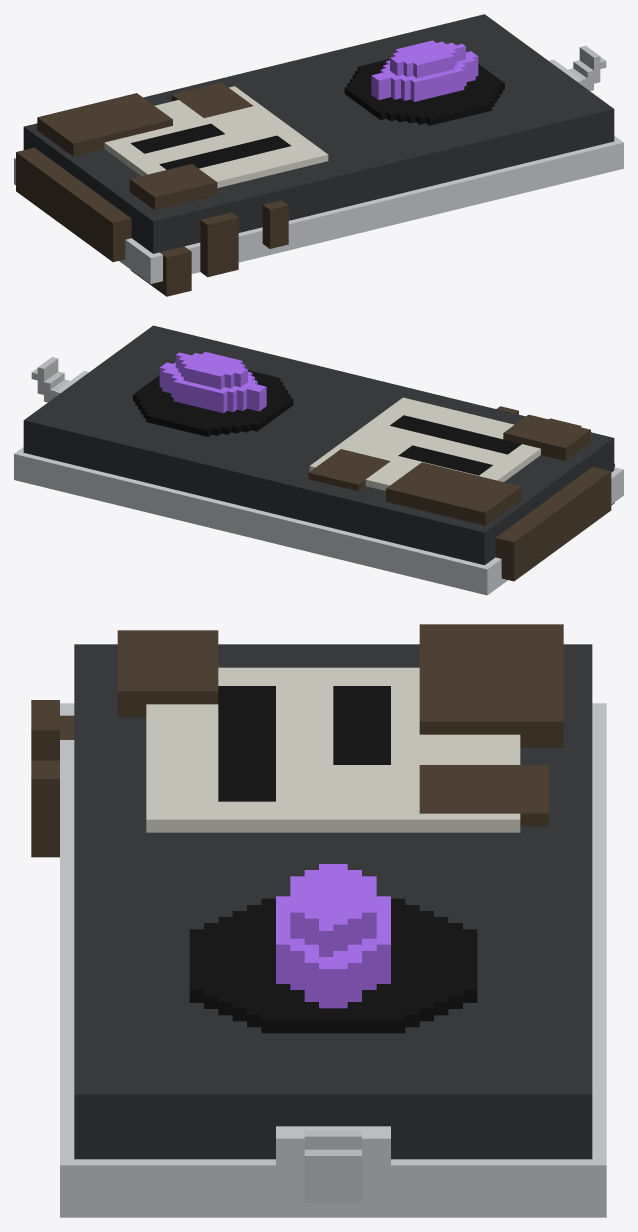
File: force_field_generator_broken.glb
3 views of the same model, one above another, from view 1: azimuth 30°, elevation 25°; view 2: azimuth 150°, elevation 25°; view 3: azimuth 270°, elevation 25° (orthographic). The views are drawn at different scales.
Parts seen in each view (by area): view 1: force_field_generator_broken:compound; view 2: force_field_generator_broken:compound; view 3: force_field_generator_broken:compound.
Boxes of the visible parts, left/top/right/bottom form: force_field_generator_broken:compound: left=14, top=14, right=623, bottom=296; force_field_generator_broken:compound: left=14, top=325, right=623, bottom=595; force_field_generator_broken:compound: left=31, top=624, right=606, bottom=1217.
Size of the model in its own units: 0.17 by 0.034 by 0.08.
